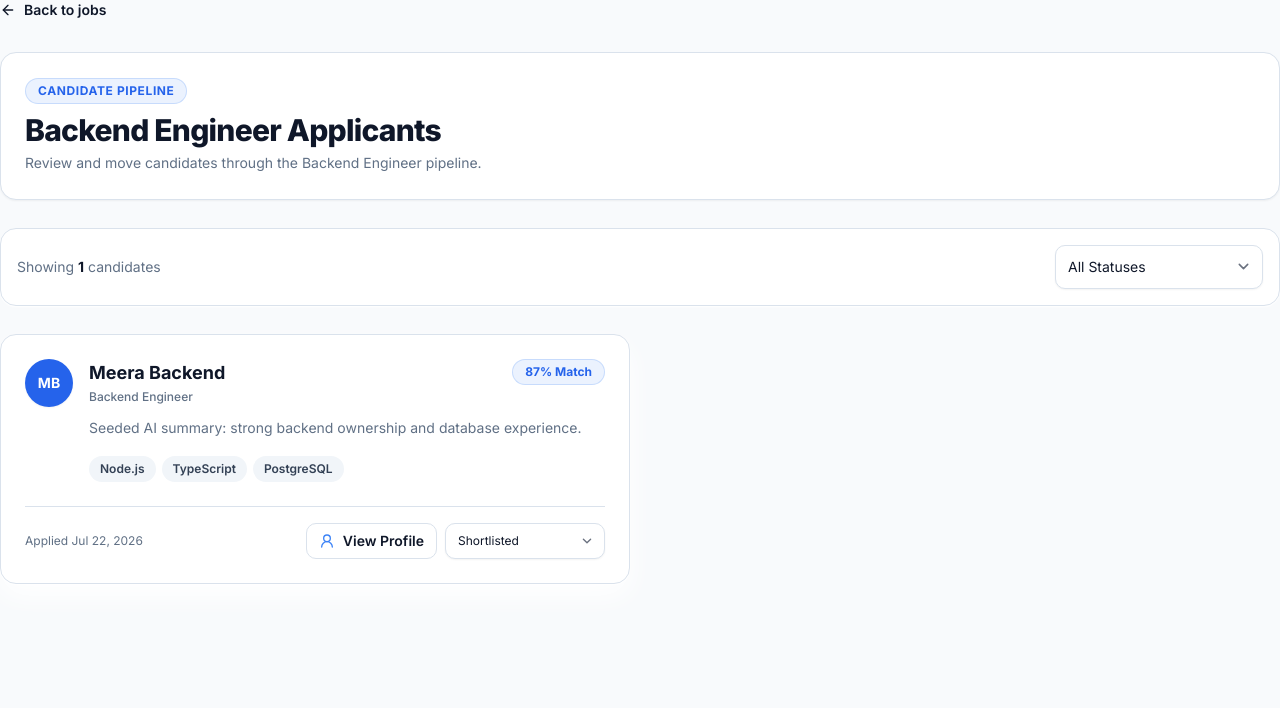
Test: ApplicantsPage assessment mode › preserves seeded AI results while preventing new recruiter AI requests
Click the button "View Profile" at x=371, y=540, box x1=306 y1=522 x2=437 y2=558
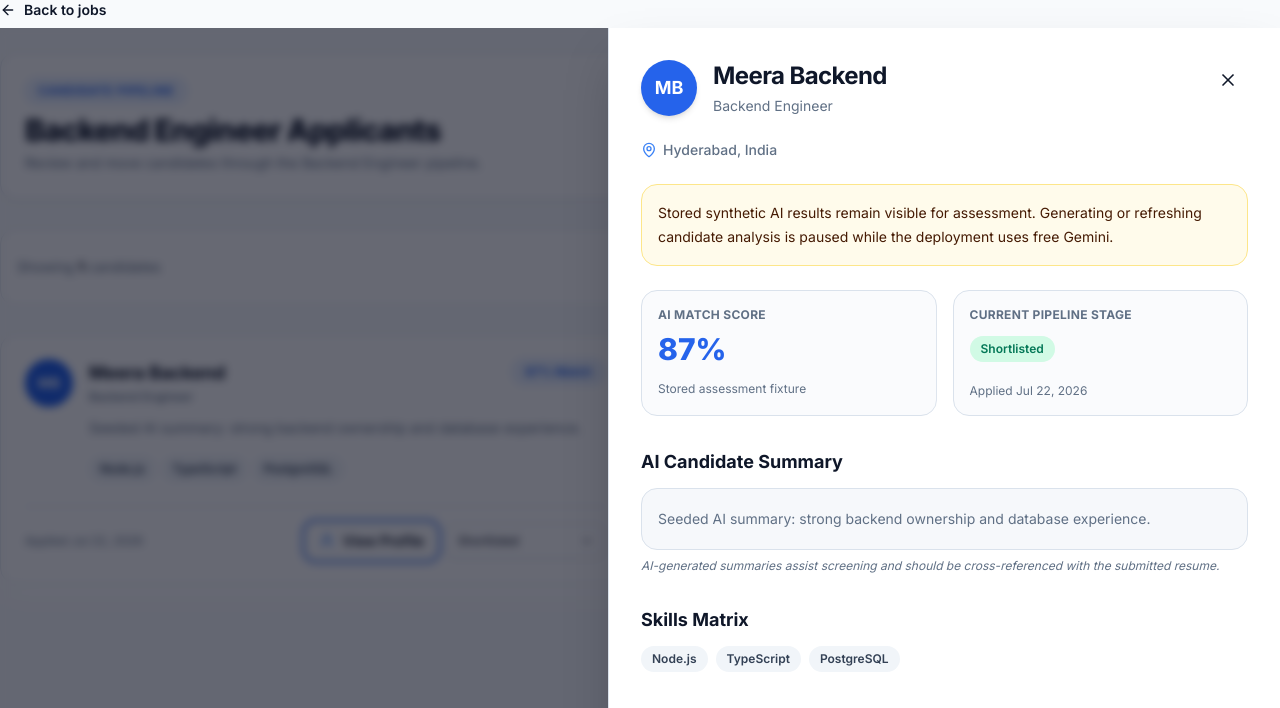
Result: the text "87%" is shown at x1=658 y1=331 x2=726 y2=367
Result: the text "Stored synthetic AI results remain visible for assessment" is shown at x1=658 y1=204 x2=1202 y2=245
